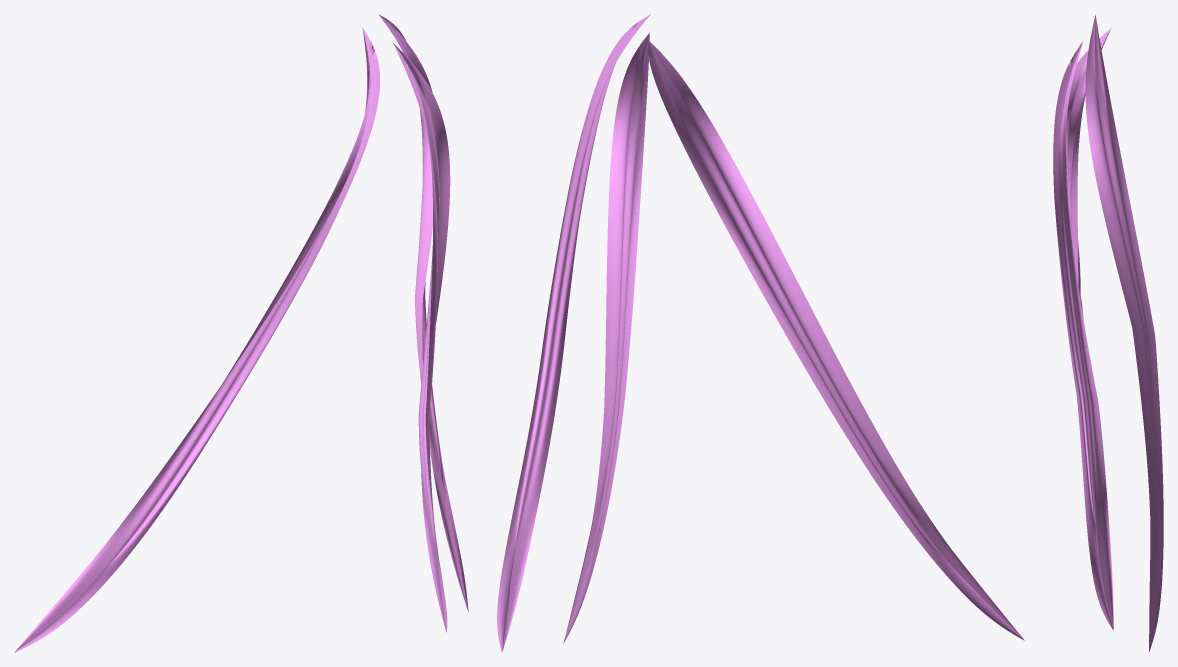
Rendered from sijin.fbx.
3 renders of one model, left to right at view 1: azimuth 30°, elevation 25°; view 2: azimuth 150°, elevation 25°; view 3: azimuth 270°, elevation 25°, orthographic. The views are drawn at different scales.
Parts seen in each view (by area): view 1: Curve10, Curve15, Curve14; view 2: Curve10, Curve15, Curve14; view 3: Curve14, Curve15, Curve10.
Boxes of the visible parts, box(x1,y1,x2,y2) form: Curve10: box(14, 28, 379, 652); Curve15: box(393, 43, 450, 632); Curve14: box(378, 14, 468, 611); Curve10: box(648, 40, 1024, 640); Curve15: box(563, 32, 649, 643); Curve14: box(497, 14, 650, 652); Curve14: box(1085, 14, 1163, 652); Curve15: box(1053, 41, 1113, 629); Curve10: box(1066, 28, 1111, 318).
Bounding box in the file's own units: 56.04 × 70.92 × 12.12.
1 material, 1 textured.
